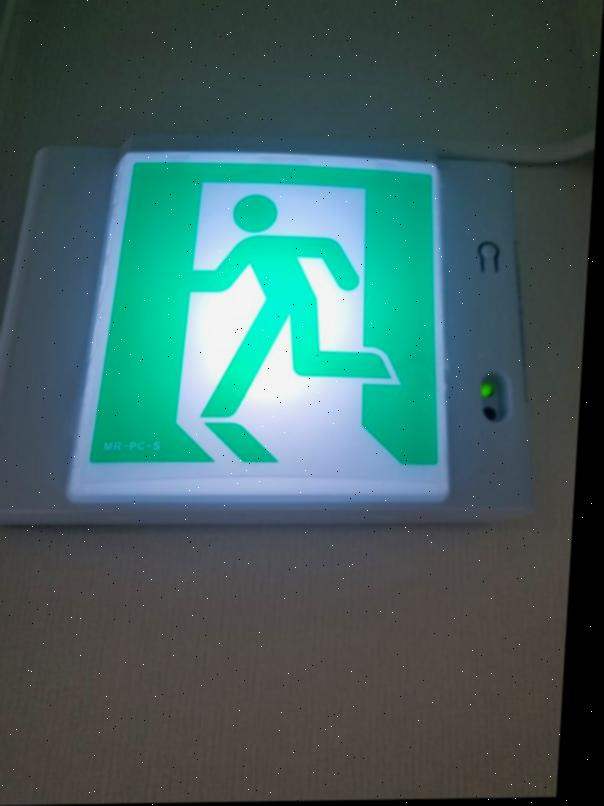emergency_exit: (65, 147, 453, 507)
